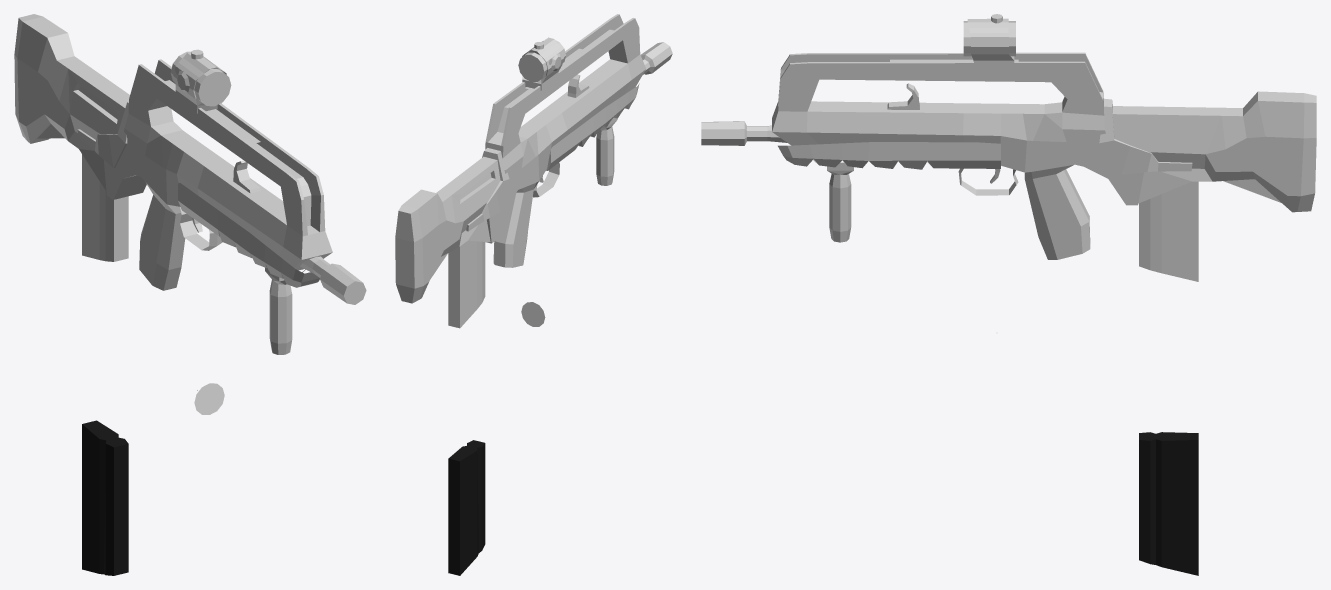
The model's file is FAMAS_Gun.glb.
The picture shows the model from 3 angles, left to right: view 1: azimuth 30°, elevation 25°; view 2: azimuth 150°, elevation 25°; view 3: azimuth 270°, elevation 25°; orthographic projection. The views are drawn at different scales.
Parts seen in each view (by area): view 1: FamasLowPoly, FamasMag, FamasGlass; view 2: FamasLowPoly, FamasMag, FamasGlass; view 3: FamasLowPoly, FamasMag.
Boxes of the visible parts, x1,y1,x2,y2 form: FamasLowPoly: (14, 14, 366, 354); FamasMag: (82, 420, 128, 575); FamasGlass: (194, 383, 224, 414); FamasLowPoly: (395, 14, 672, 328); FamasMag: (448, 440, 485, 575); FamasGlass: (521, 302, 545, 326); FamasLowPoly: (701, 14, 1316, 281); FamasMag: (1139, 432, 1198, 575).
Bounding box in the file's own units: 0.0629 × 0.936 × 0.9387.
Materials: 4 (1 with a texture image).
